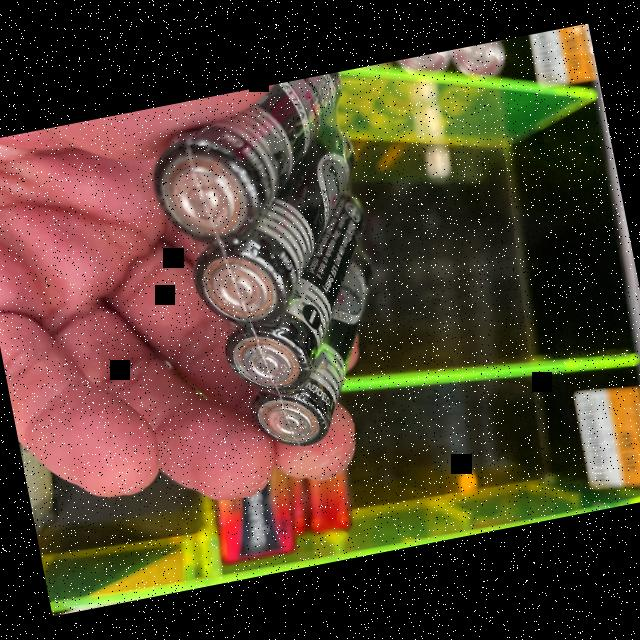battery: (131, 70, 347, 245), (194, 111, 349, 328), (212, 183, 367, 390), (188, 420, 380, 568), (250, 240, 378, 452), (337, 39, 527, 160)
